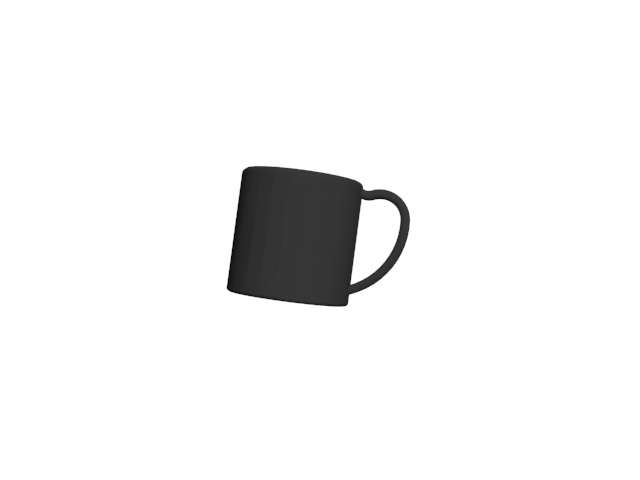mug: (225, 161, 416, 312)
